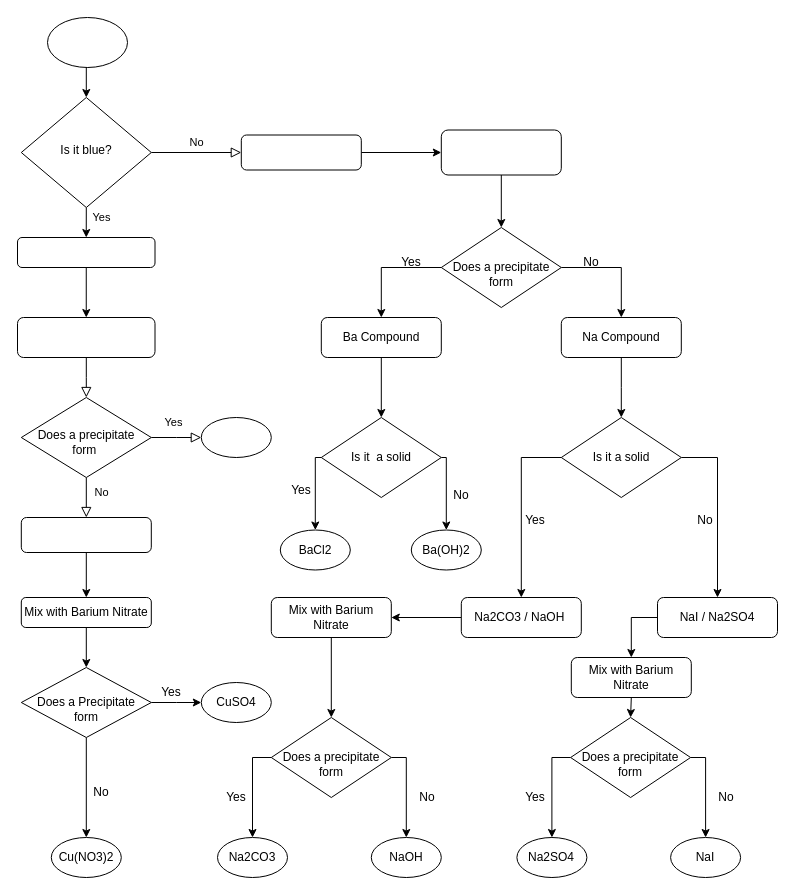
Some shapes in this 795 by 895 pixel diagram are drawn without their labels. The centre of each missing label's shape, as x and y in pixels:
"Ba/Na compound" belongs at point (300, 152).
"Cu compound" belongs at point (85, 252).
"Cu(NO3)2 / CuSO4" belongs at point (85, 534).
"CuCl2" belongs at point (235, 437).
"Mix with Silver Nitrate" belongs at point (85, 337).
"Mix with Sodium Sulfate" belongs at point (500, 152).
"Start" belongs at point (87, 42).
